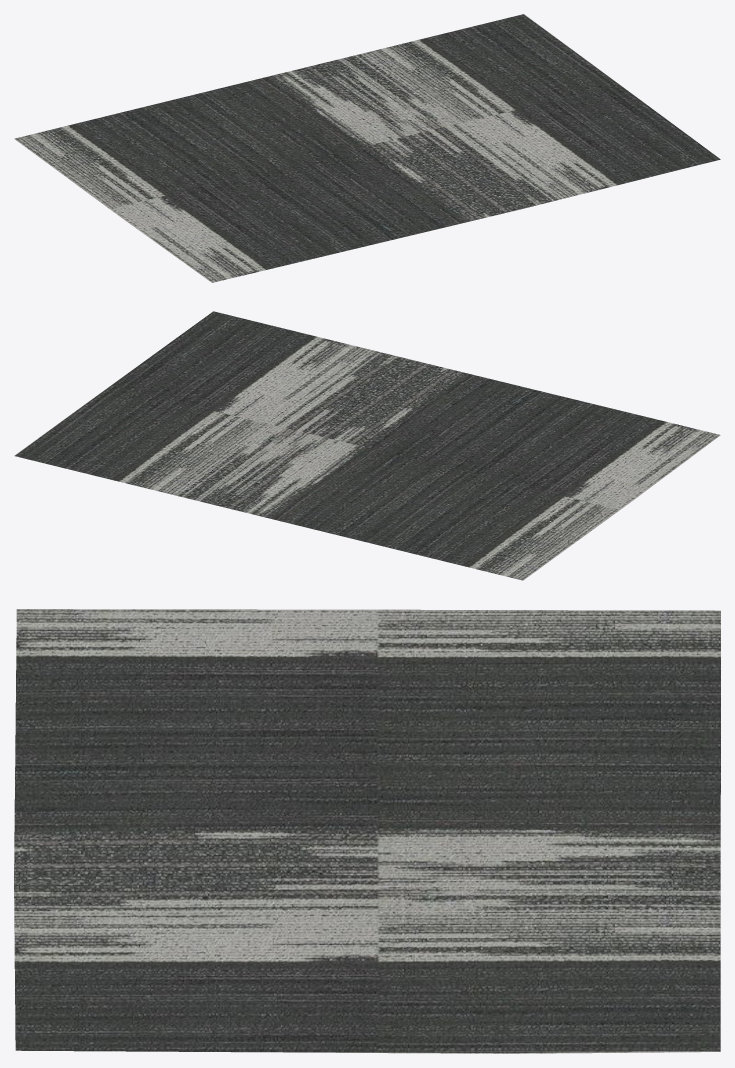
Rendered from Carpet0006.obj.
The picture shows the model from 3 angles, top to bottom: view 1: azimuth 30°, elevation 25°; view 2: azimuth 150°, elevation 25°; view 3: azimuth 270°, elevation 25°; orthographic projection. The views are drawn at different scales.
Size of the model in its own units: 2.62 by 0.007 by 1.77.
1 material, 1 textured.
